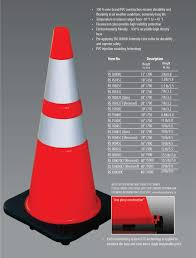cones: (8, 27, 112, 246)
